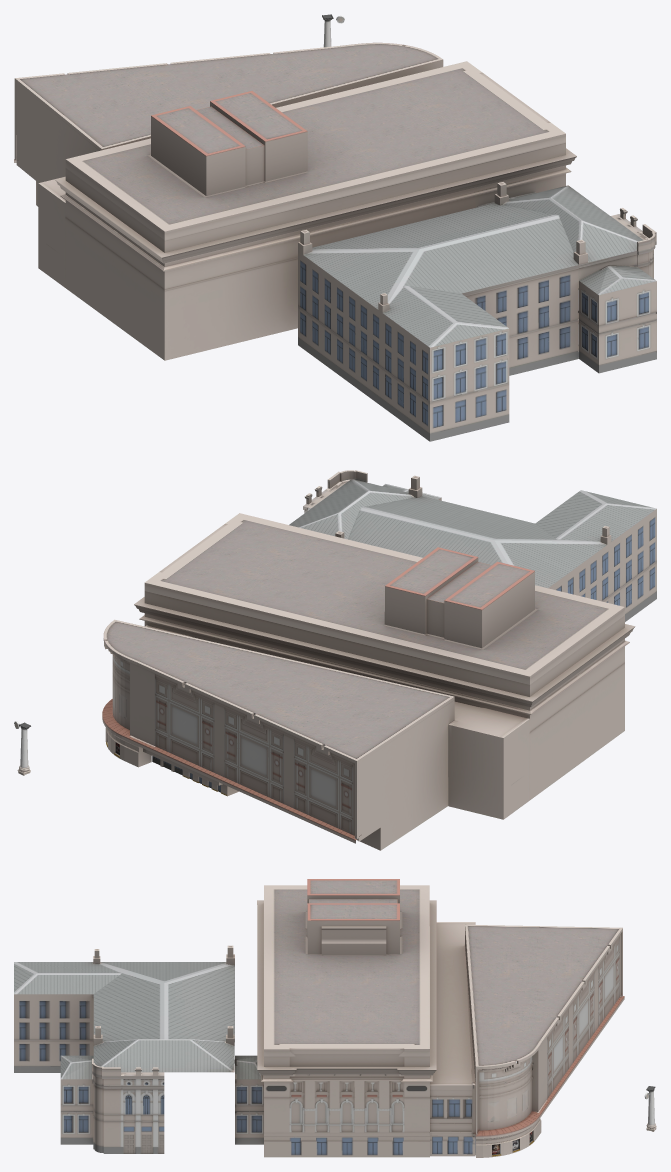
Rendered from EnglishClub_ec_h+ec_l.gltf.
3 renders of one model, top to bottom at view 1: azimuth 30°, elevation 25°; view 2: azimuth 150°, elevation 25°; view 3: azimuth 270°, elevation 25°, orthographic. The views are drawn at different scales.
Parts seen in each view (by area): view 1: cc0c2a72-d5b5-4f27-81f3-d985b44d6b81; view 2: cc0c2a72-d5b5-4f27-81f3-d985b44d6b81; view 3: cc0c2a72-d5b5-4f27-81f3-d985b44d6b81.
Part boxes in pixels (box(x1,y1,x2,y2)): cc0c2a72-d5b5-4f27-81f3-d985b44d6b81: box(14, 14, 656, 441); cc0c2a72-d5b5-4f27-81f3-d985b44d6b81: box(14, 470, 656, 850); cc0c2a72-d5b5-4f27-81f3-d985b44d6b81: box(14, 879, 656, 1157).
Size of the model in its own units: 31.96 by 12.45 by 51.17.
Materials: 1 (1 with a texture image).
